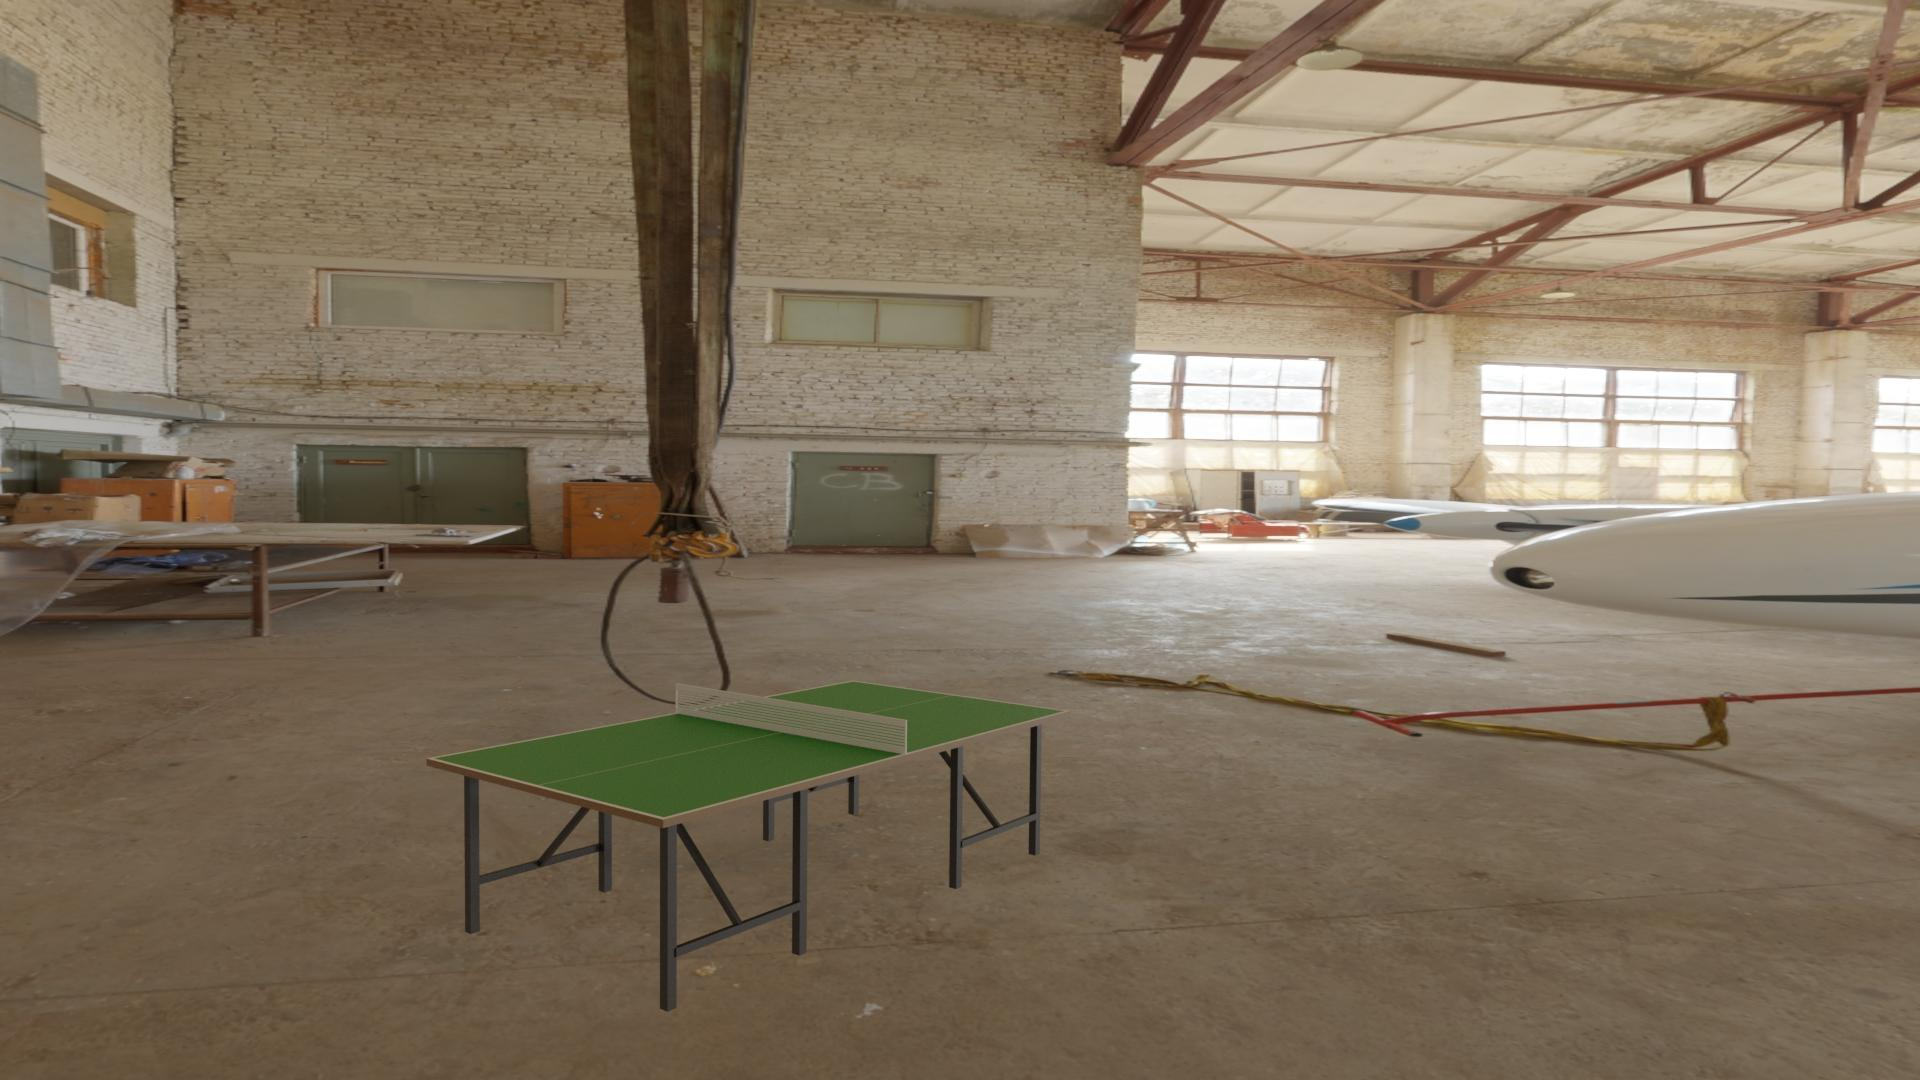table: (434, 682, 1064, 818)
